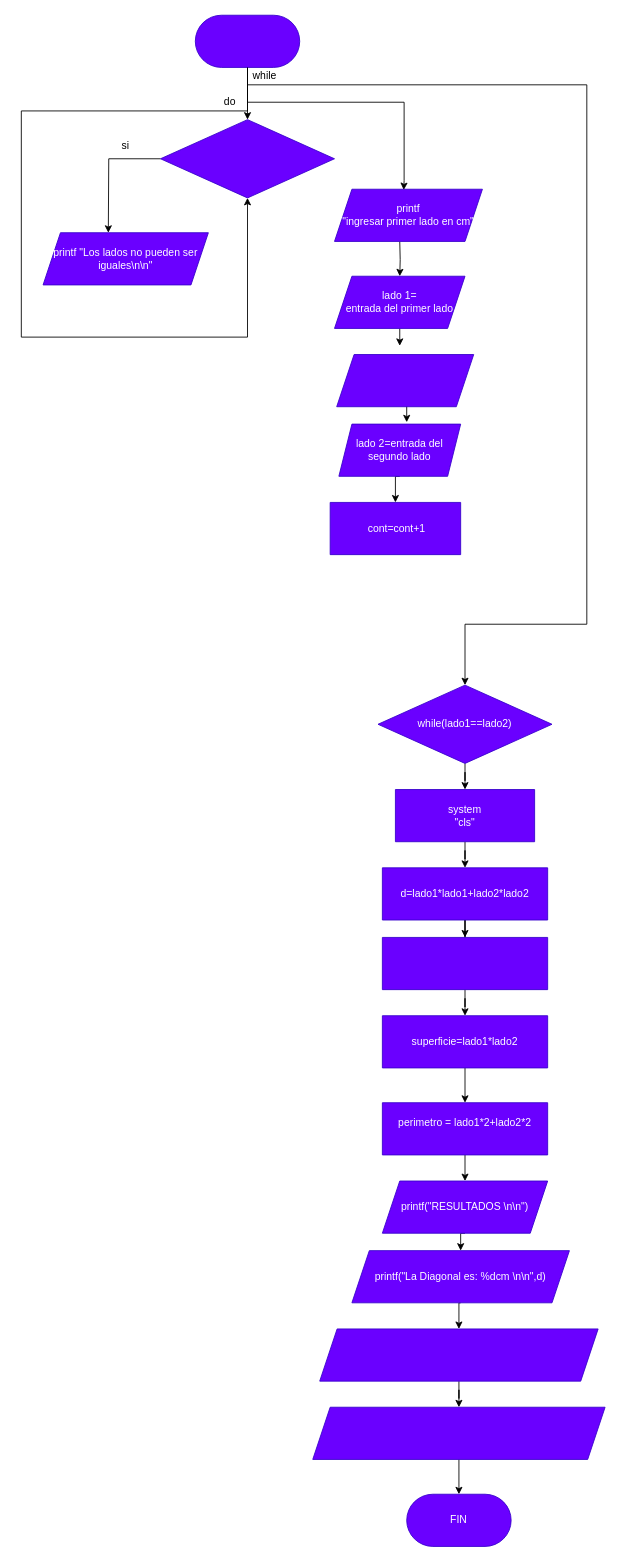
Image size: 620x1562. Some labels were removed from this diagram. The box of each missing label's shape, as (x1, y1, x2, y2) in pixels:
d=raiz cuadrada(d): (381, 937, 548, 990)
inicio: (194, 14, 300, 67)
lado1==lado2 && cont>=1: (160, 119, 335, 198)
printf "ingresar segundo lado en cm": (336, 354, 474, 407)
printf("el perimetro es: %dcm",perimetro): (312, 1406, 605, 1459)
printf("La Superficie es: %dcm^2 \n\n",superficie): (319, 1328, 598, 1381)
